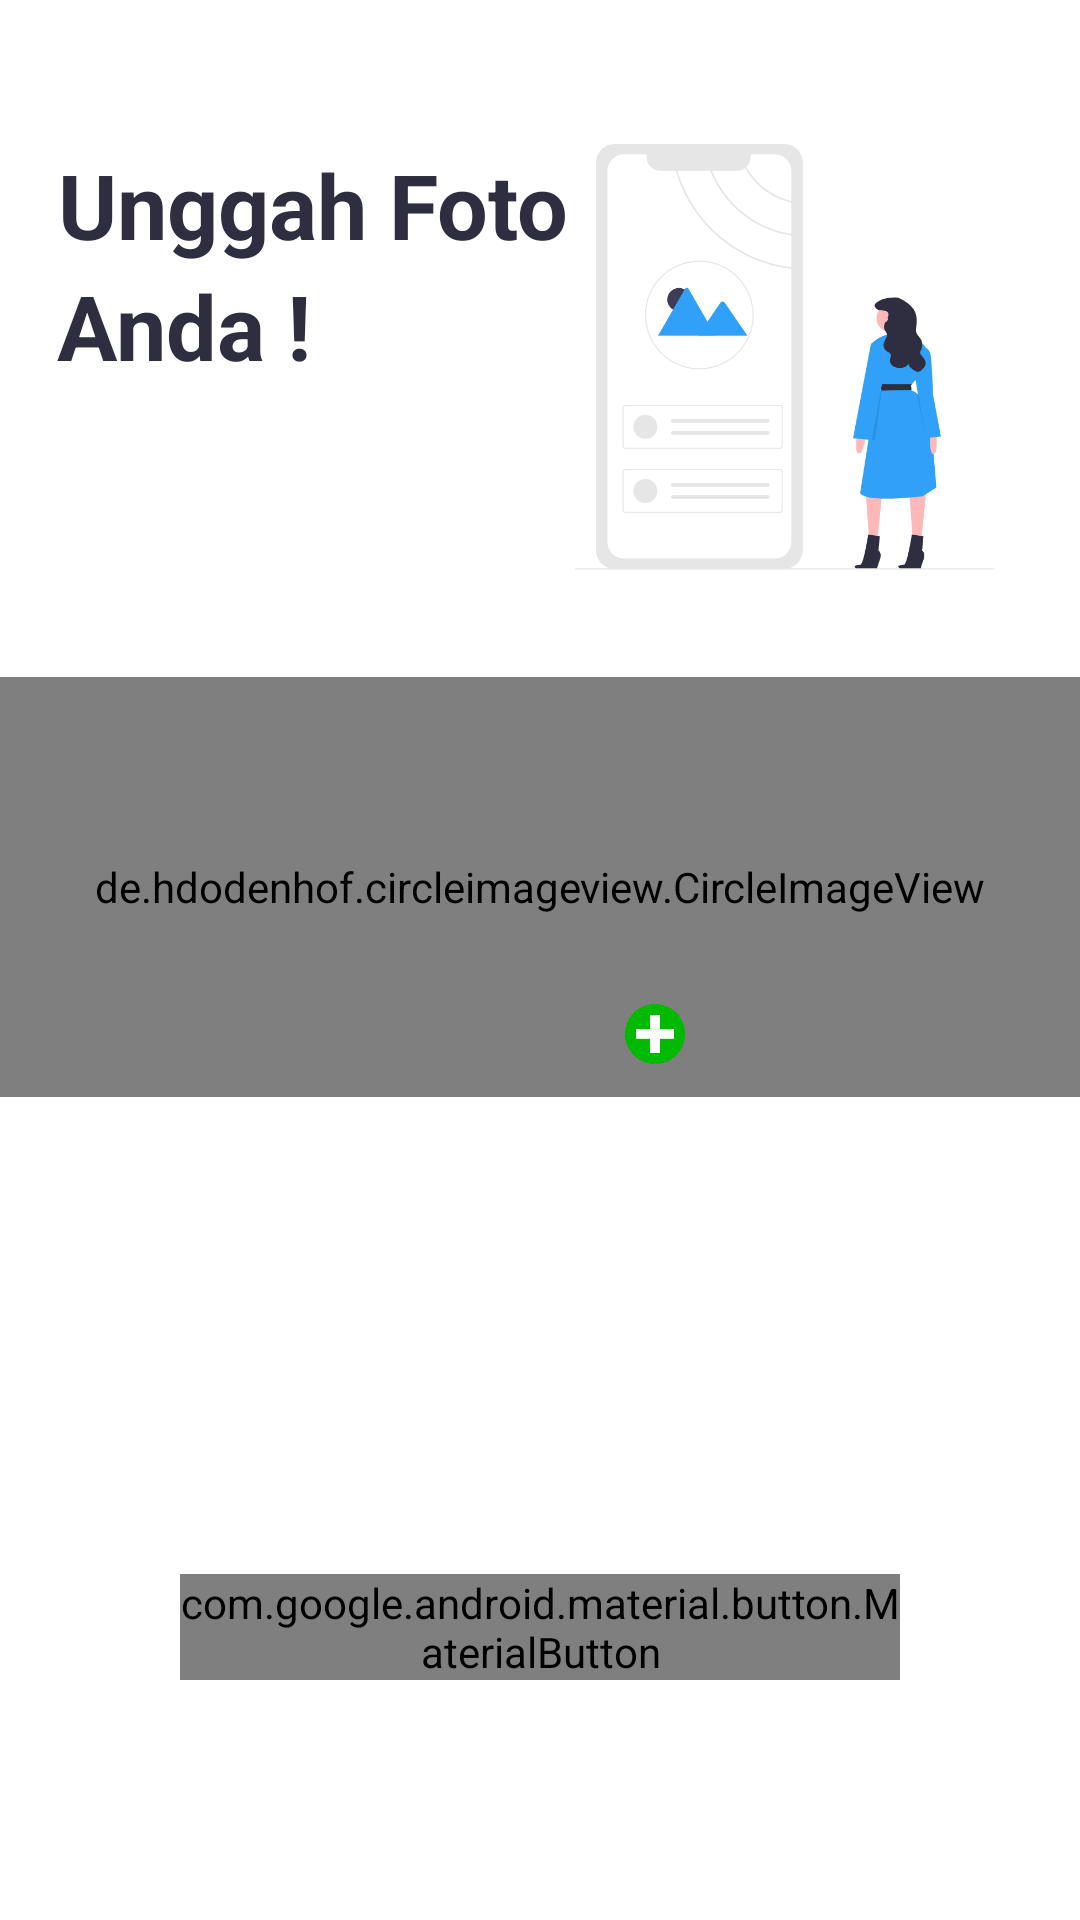

Icon click points for this 1080w x 1920h phone screenshot, format (x,y):
plus: (655,1034)
